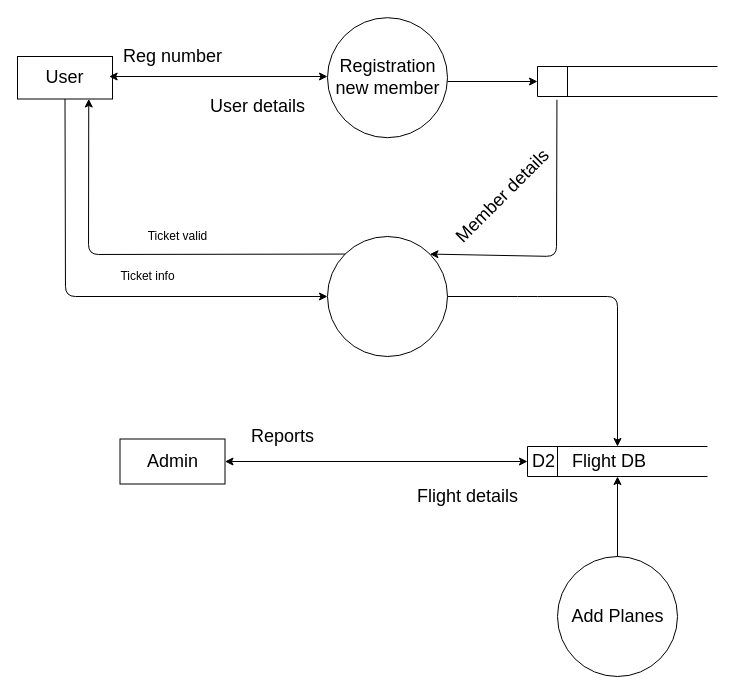
The diagram is 735 pixels wide and 694 high, and some of its shapes have lost their labels. The centre of each missing label's shape, as x and y in pixels:
"D1 Member DB" belongs at [627,81].
"Issue Ticket" belongs at [387,296].
